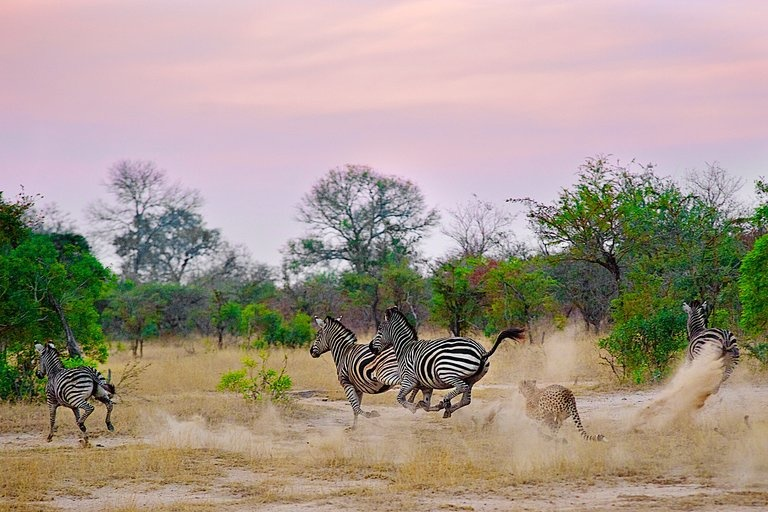zebra: (370, 305, 518, 415), (310, 307, 428, 423), (29, 339, 120, 440)
